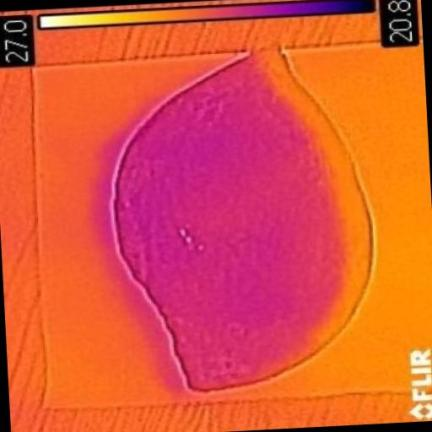mango: (113, 44, 368, 390)
